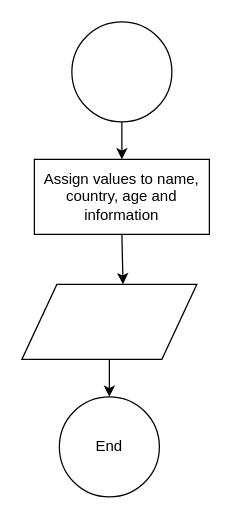
This 231x519 diagram has some shape labels left out. The centre of each missing label's shape, as x and y in pixels:
"Display information" belongs at point 109,321.
"Start" belongs at point 121,71.
